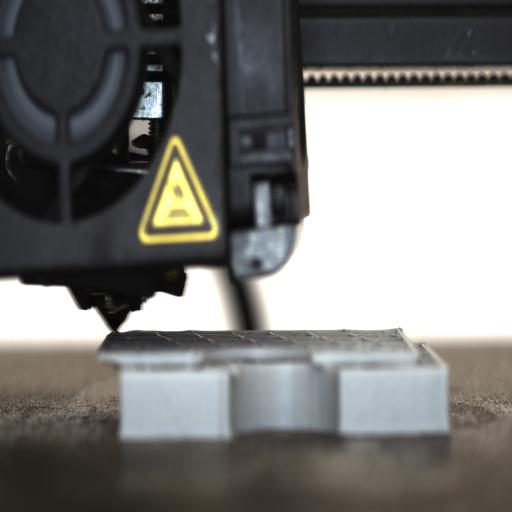layer_shift: (96, 359, 450, 374)
